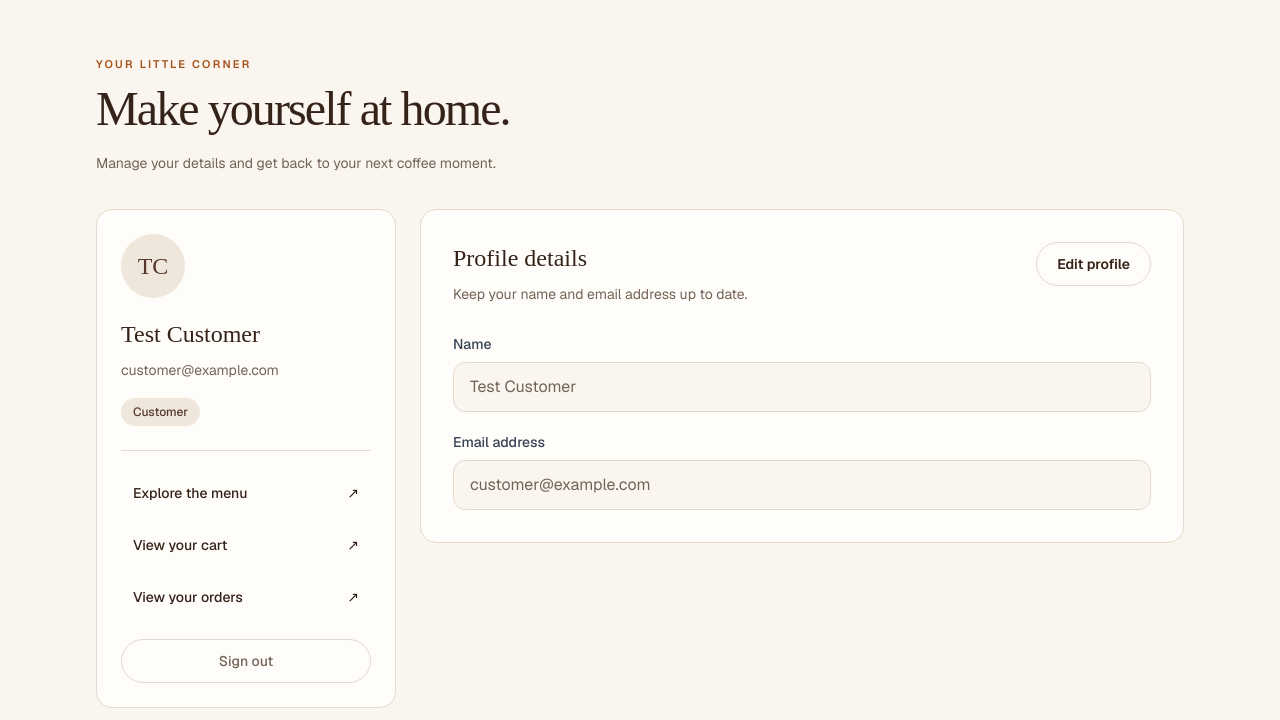
it: AccountPage › preserves the draft when saving fails
Click the button "Edit profile": click(1094, 264) [1036, 242, 1151, 286]
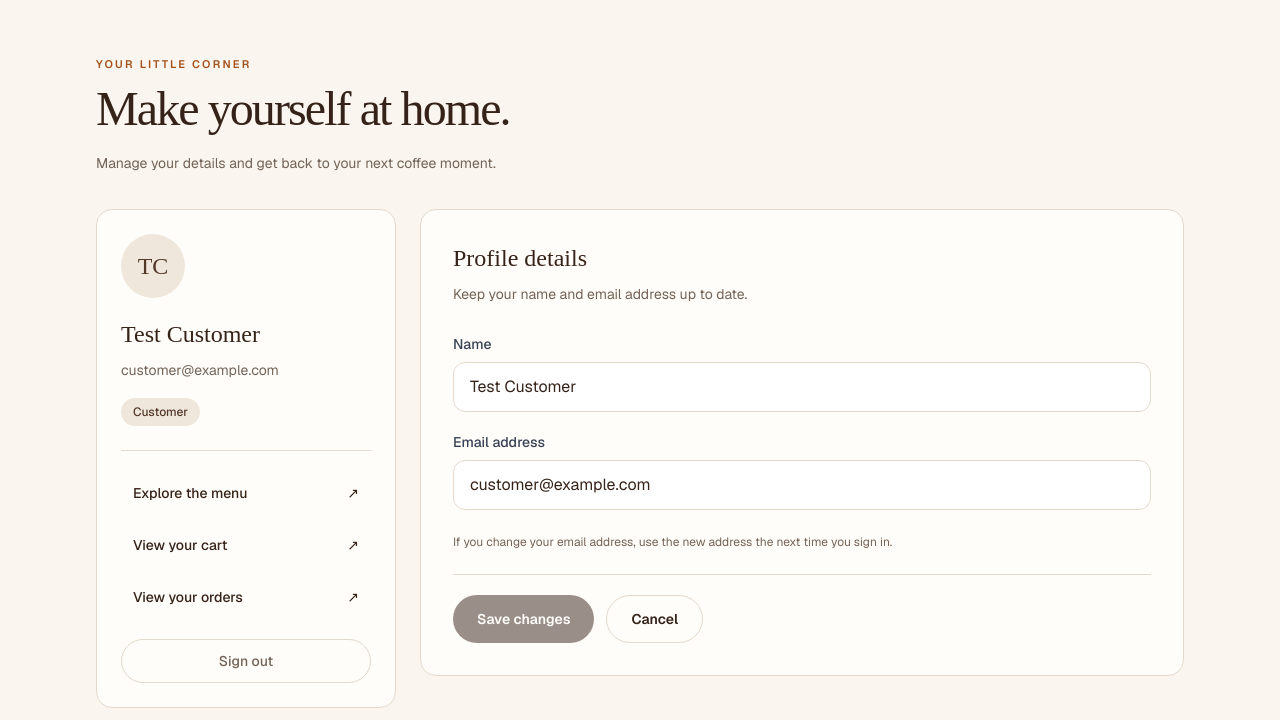
Replace the text in the field labelled "Name" with "Updated Customer": (802, 386) [453, 362, 1151, 412]
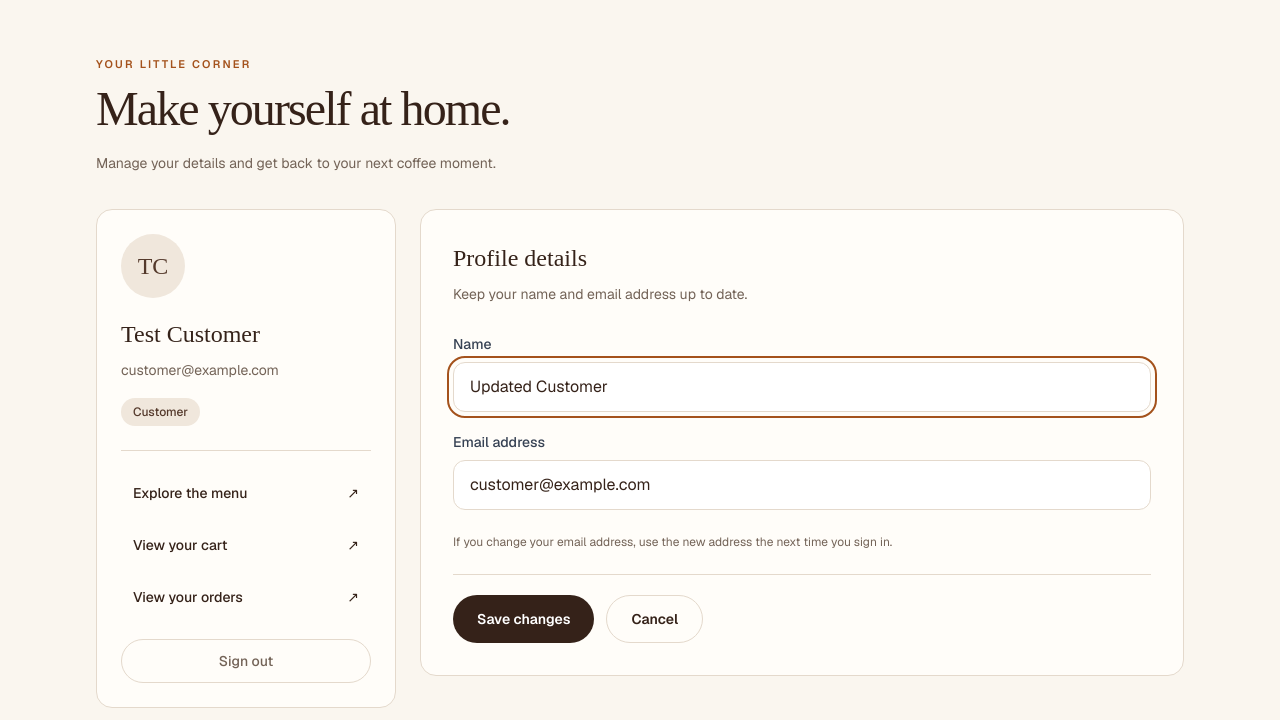
Click the button "Save changes": click(524, 618) [453, 594, 594, 642]
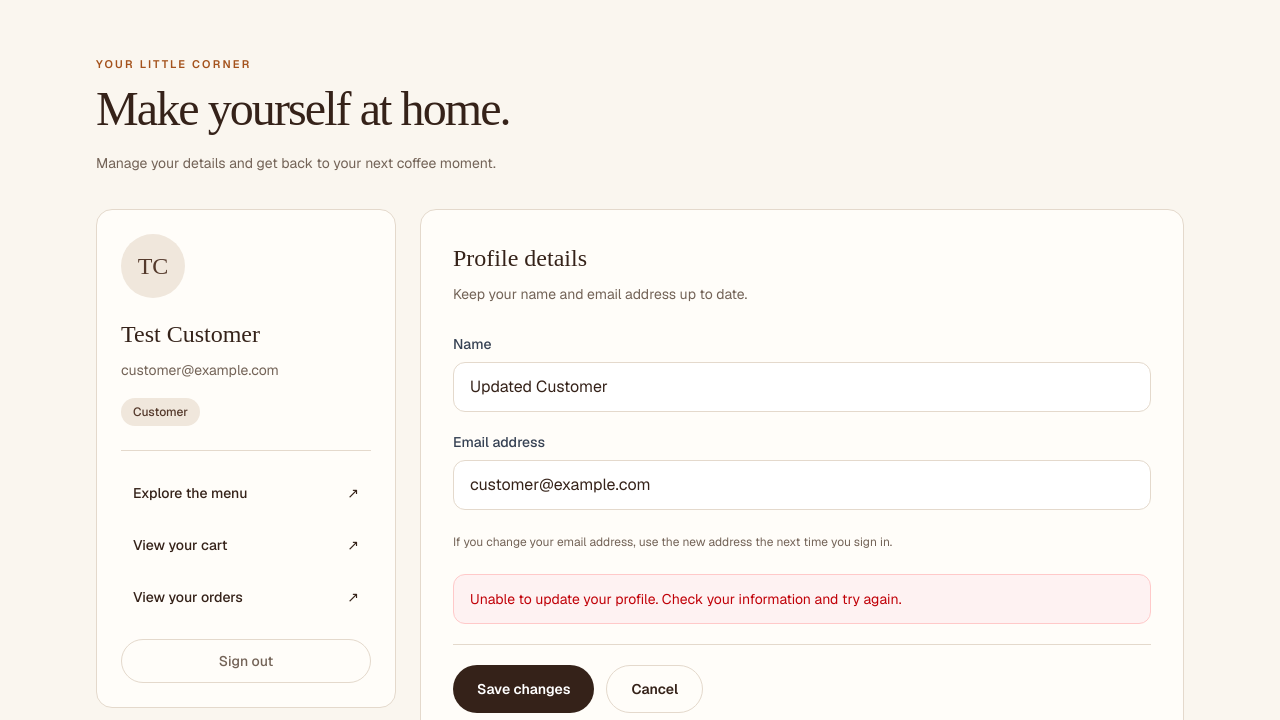
Expected: the button "Save changes" is enabled, [453, 664, 594, 712]
Expected: the message shows "Unable to update your profile.", [470, 590, 902, 608]
